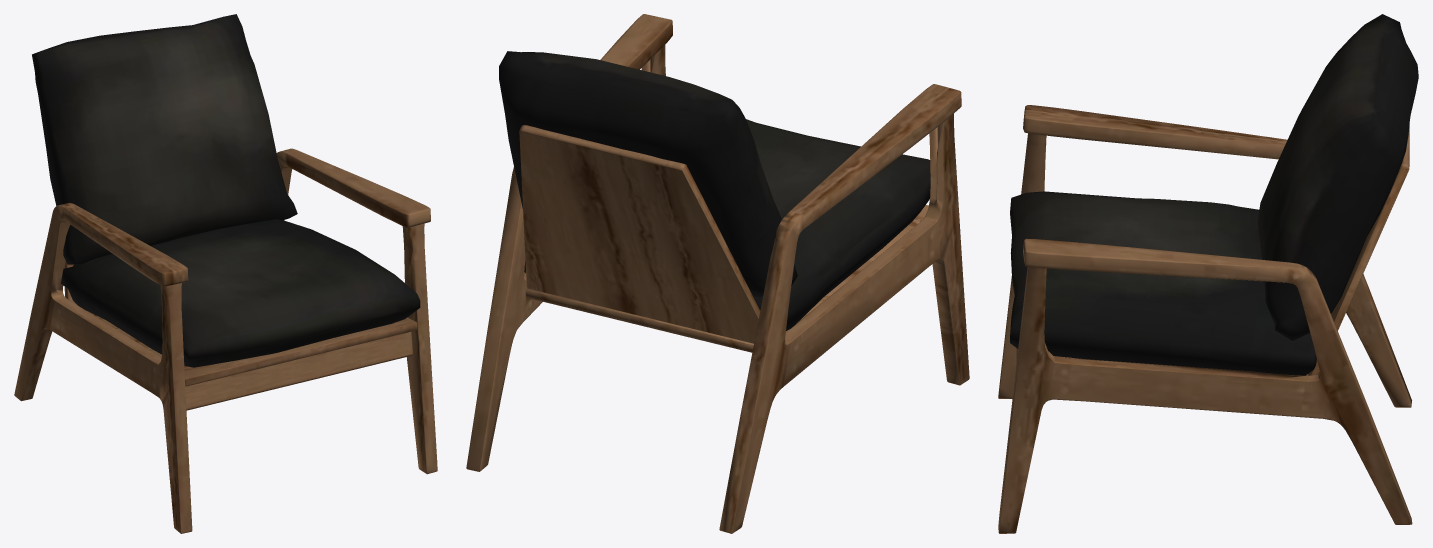
Rendered from modern_arm_chair_01.glb.
3 views of the same model, side by side, from view 1: azimuth 30°, elevation 25°; view 2: azimuth 150°, elevation 25°; view 3: azimuth 270°, elevation 25° (orthographic). The views are drawn at different scales.
Parts seen in each view (by area): view 1: modern_arm_chair_01; view 2: modern_arm_chair_01; view 3: modern_arm_chair_01.
Part boxes in pixels (left/top/right/bottom): modern_arm_chair_01: left=14, top=14, right=437, bottom=533; modern_arm_chair_01: left=466, top=14, right=969, bottom=533; modern_arm_chair_01: left=998, top=14, right=1418, bottom=533.
Size of the model in its own units: 0.8203 by 1.02 by 0.9865.
2 materials, 2 textured.
